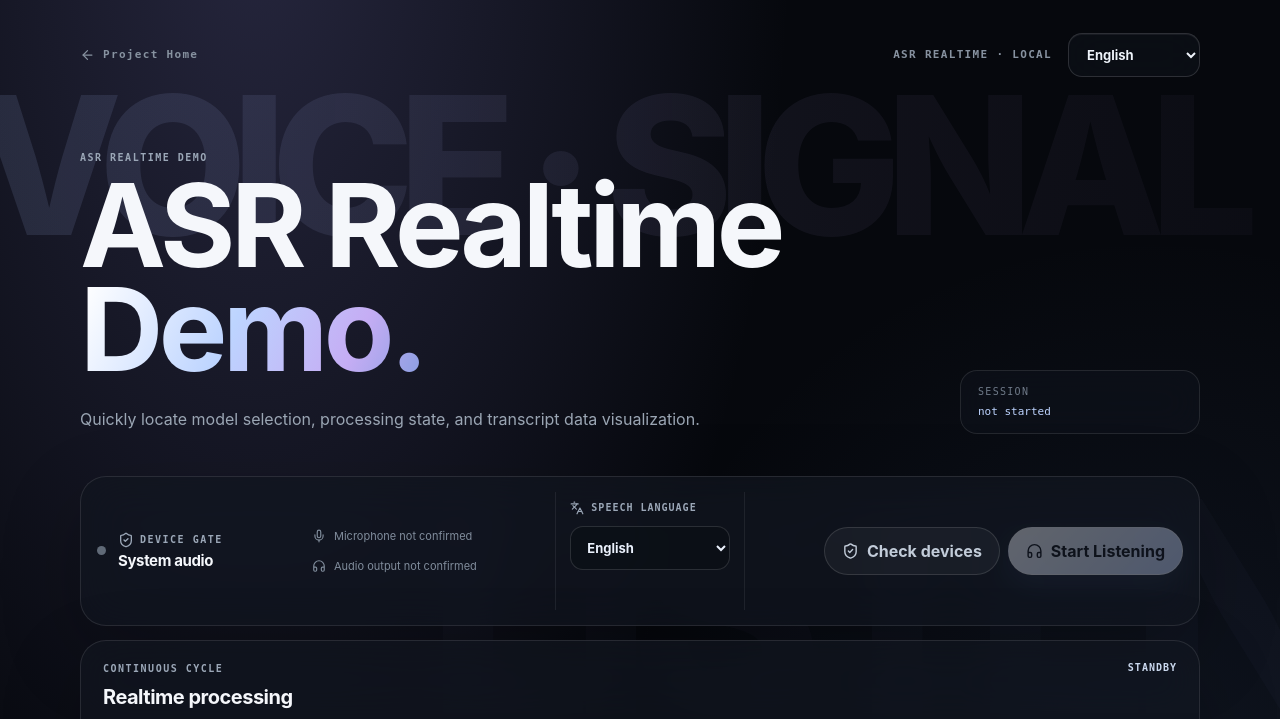
it: changes the complete realtime surface language from the navigation selector
Select "日本語" in the dropdown named "Language" at (1134, 55), box [1068,33,1200,77]
(page scrolled)
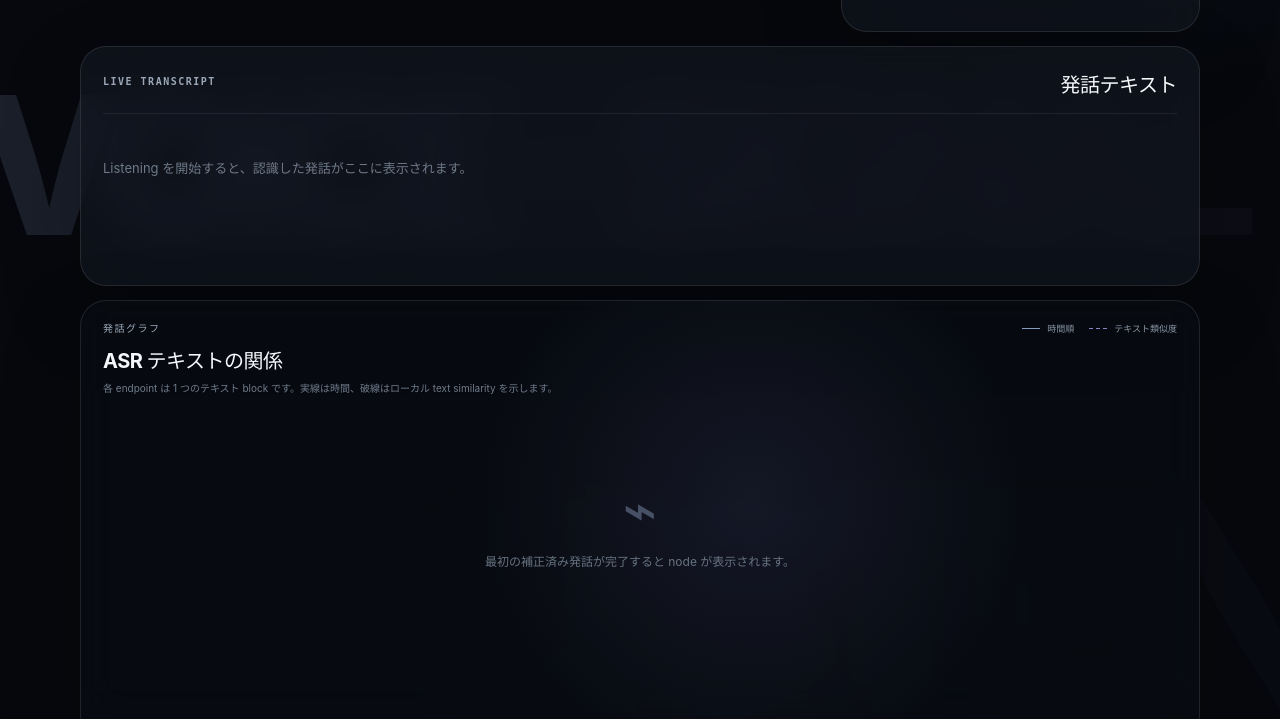
Now the heading "ASR テキストの関係" is shown, box [103,349,282,373]
